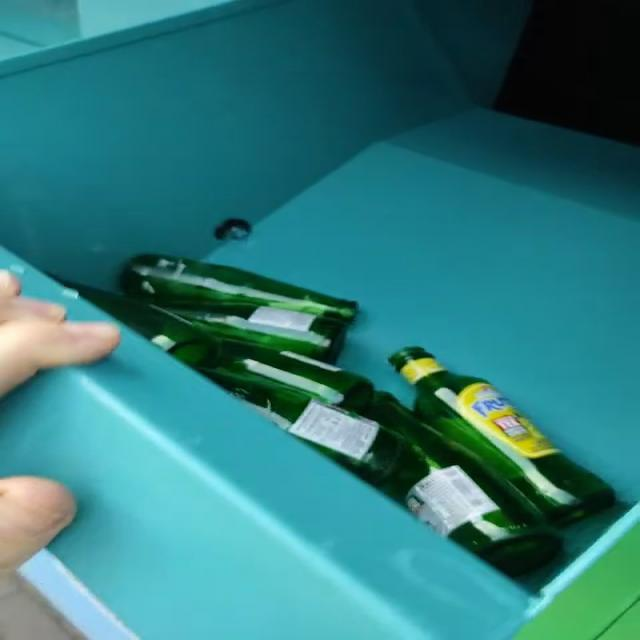glass: (73, 255, 616, 576)
